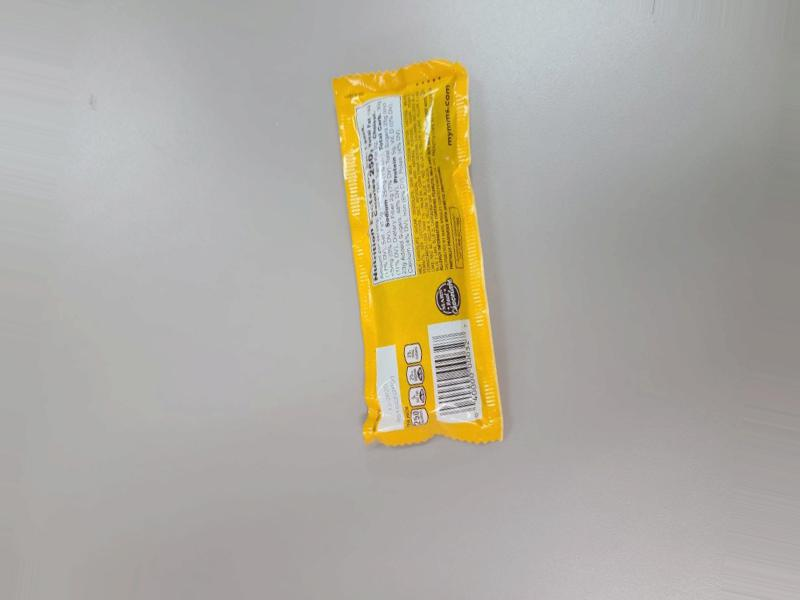m&m: (320, 71, 506, 433)
